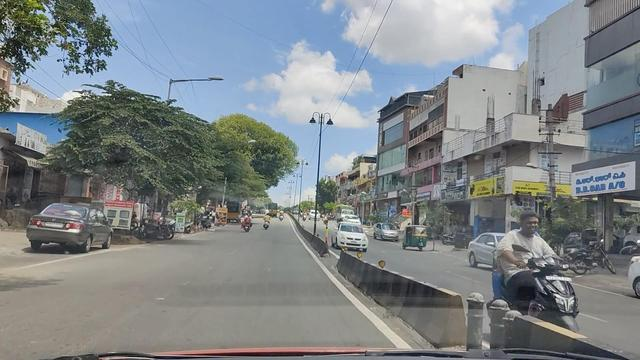LMV: (502, 213, 566, 318), (28, 207, 93, 246), (333, 217, 367, 253)
